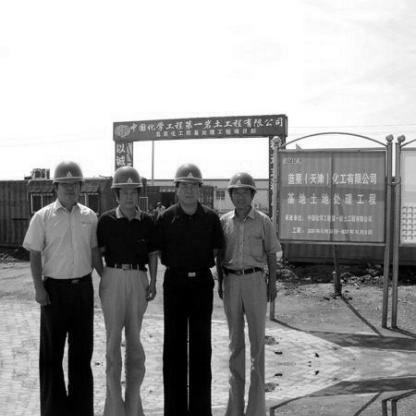Hardhat: (51, 156, 86, 204), (110, 165, 145, 213), (172, 159, 205, 207), (227, 167, 258, 213)
